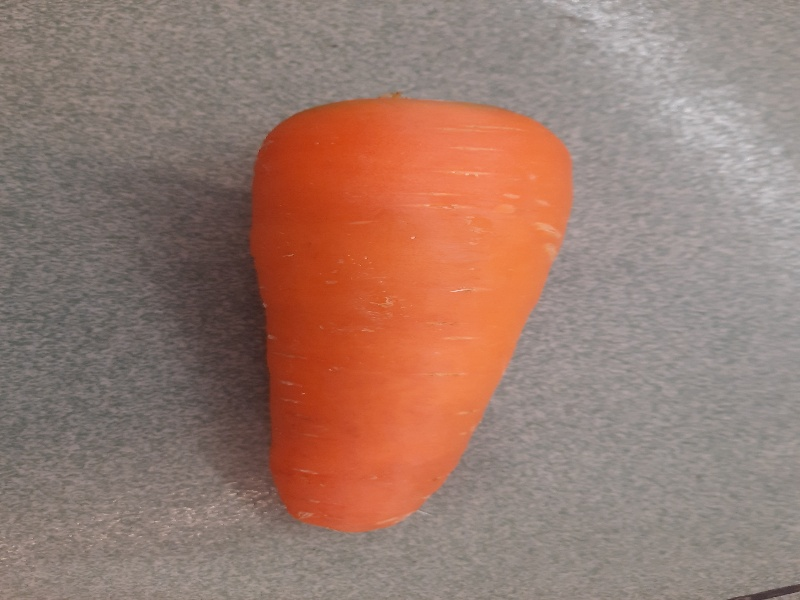vege: (241, 91, 581, 539)
